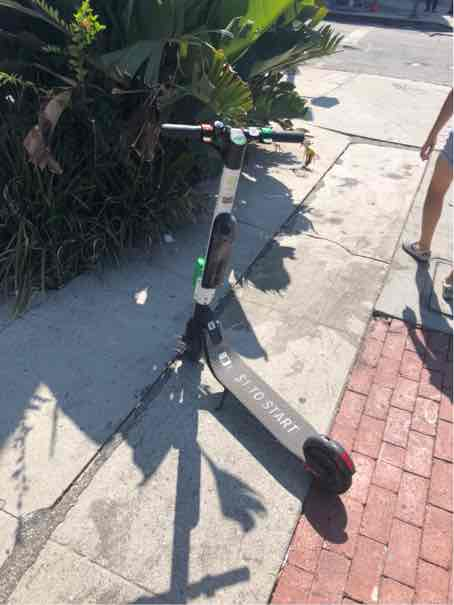scooter: (160, 113, 361, 503)
